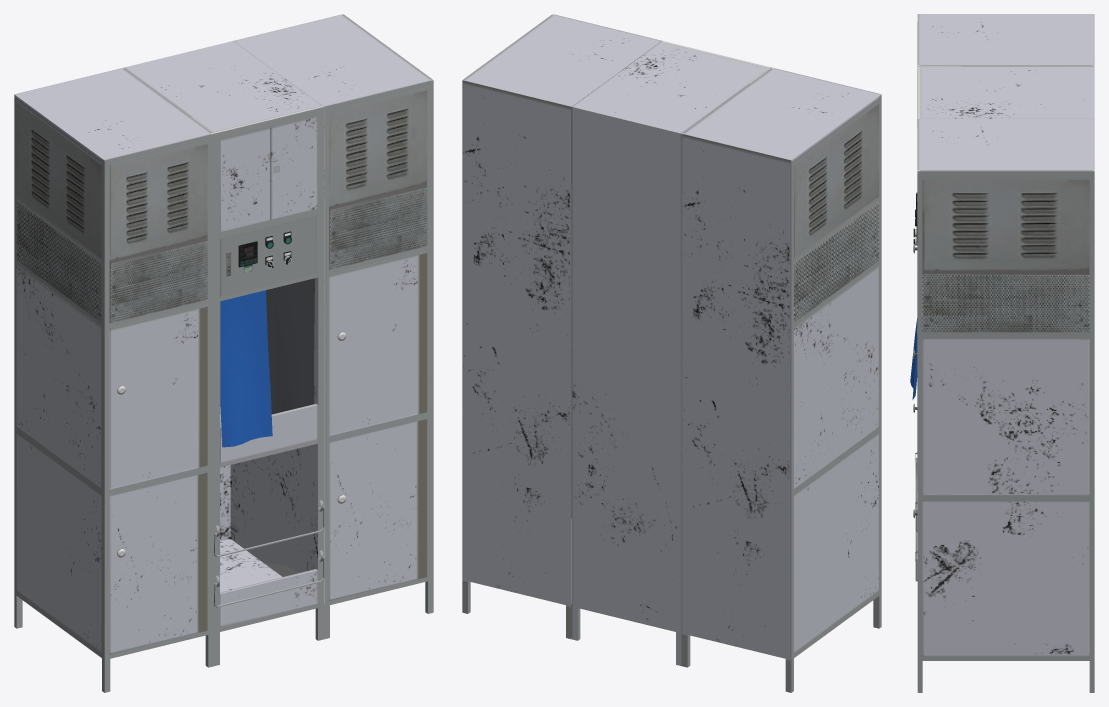
The model's file is qitou03.FBX.
The picture shows the model from 3 angles, left to right: view 1: azimuth 30°, elevation 25°; view 2: azimuth 150°, elevation 25°; view 3: azimuth 270°, elevation 25°; orthographic projection. The views are drawn at different scales.
Visible parts, largest first — view 1: YF_Model_qitou03; view 2: YF_Model_qitou03; view 3: YF_Model_qitou03.
Boxes of the visible parts, <box> form: YF_Model_qitou03: <box>14,14,433,692</box>; YF_Model_qitou03: <box>462,14,881,692</box>; YF_Model_qitou03: <box>910,14,1094,692</box>.
Bounding box in the file's own units: 105 × 162 × 52.1.
Materials: 1 (1 with a texture image).
